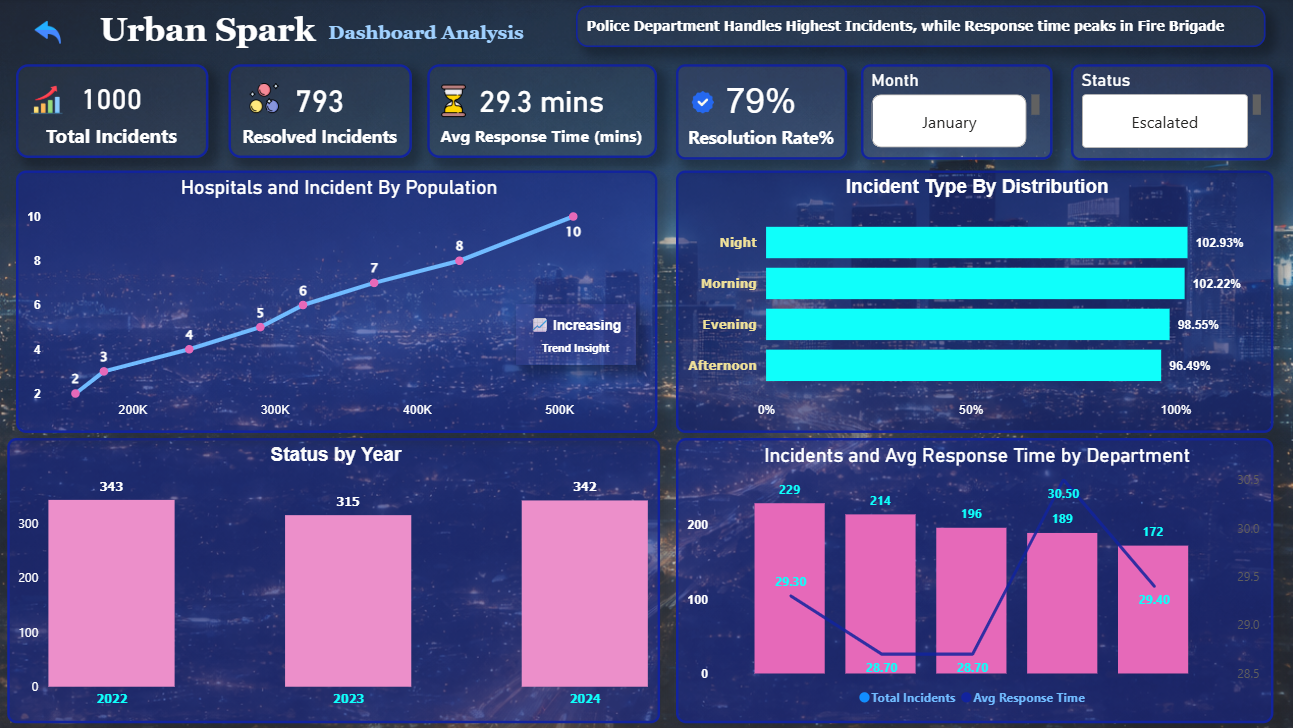

Layout of this report page (visuals, bound fields, positions):
{"tool":"powerbi","page":{"name":"Dashboard","canvas":[1280,720],"ordinal":1},"visuals":[{"type":"card","fields":{"Values":["Incidents_Raw.Total Incidents"]},"box":[19.6,65,189,92],"z":0},{"type":"card","fields":{"Values":["Incidents_Raw.Avg Response Time (mins)"]},"box":[423.3,65,225.8,92],"z":1000},{"type":"card","fields":{"Values":["Incidents_Raw.Resolved Incidents"]},"box":[228.2,65,180.4,92],"z":2000},{"type":"card","fields":{"Values":["Incidents_Raw.Resolution_Rate %"]},"box":[667.5,65,168.1,93.3],"z":3000},{"type":"columnChart","title":"Status by Year","fields":{"Category":["Incidents_Raw.Date.Variation.Date Hierarchy.Year"],"Y":["CountNonNull(Incidents_Raw.Status)"]},"box":[11,431.9,640.5,279.8],"z":4000},{"type":"clusteredBarChart","title":"Incident Type By Distribution","fields":{"Category":["Incidents_Raw.Shift"],"Y":["Divide(Incidents_Raw.Resolution Rate%, ScopedEval(Incidents_Raw.Resolution Rate%, []))"]},"box":[667.5,169.3,586.5,257.7],"z":5000},{"type":"lineChart","title":"Hospitals and Incident By Population","fields":{"Category":["Infrastructure.Population","Infrastructure.Region"],"Y":["Sum(Infrastructure.Hospitals)"]},"box":[19.6,169.3,629.5,257.7],"z":6000},{"type":"textbox","box":[96.9,7.7,224.4,61.2],"z":7000},{"type":"textbox","box":[321.3,17.9,224.4,39.5],"z":8000},{"type":"image","box":[682.2,88.3,23.3,28.2],"z":9000},{"type":"image","box":[239.3,83.4,47.9,29.4],"z":10000},{"type":"image","box":[27,84.7,45.4,30.7],"z":11000},{"type":"image","box":[433.1,78.5,31.9,44.2],"z":12000},{"type":"card","fields":{"Values":["Incidents_Raw.Trend Insight"]},"box":[510.4,300.6,117.8,58.9],"z":13000},{"type":"advancedSlicerVisual","fields":{"Values":["Incidents_Raw.Date.Variation.Date Hierarchy.Month"]},"box":[849.1,65,187.7,93.3],"z":14000},{"type":"advancedSlicerVisual","fields":{"Values":["Incidents_Raw.Status"]},"box":[1055.2,65,198.8,94.5],"z":15000},{"type":"image","box":[19.1,20.4,62.5,25.5],"z":16000},{"type":"lineStackedColumnComboChart","title":"Incidents and Avg Response Time by Department","fields":{"Y":["Incidents_Raw.Total Incidents"],"Y2":["Incidents_Raw.Avg Response Time"],"Category":["Incidents_Raw.Department"]},"box":[667.5,431.9,586.5,279.8],"z":17000},{"type":"textbox","box":[569.5,6.9,676.5,41.2],"z":18000}]}

Visuals, with their boxes in screenshot pixels (x1, y1, x2, y2), scaled from the page's 1280x720 canvas onto the 1293x728 screenshot:
card - Incidents_Raw.Total Incidents: [20,66,211,159]
card - Incidents_Raw.Avg Response Time (mins): [428,66,656,159]
card - Incidents_Raw.Resolved Incidents: [231,66,413,159]
card - Incidents_Raw.Resolution_Rate %: [674,66,844,160]
"Status by Year" columnChart: [11,437,658,720]
"Incident Type By Distribution" clusteredBarChart: [674,171,1267,432]
"Hospitals and Incident By Population" lineChart: [20,171,656,432]
textbox: [98,8,325,70]
textbox: [325,18,551,58]
image: [689,89,713,118]
image: [242,84,290,114]
image: [27,86,73,117]
image: [437,79,470,124]
card - Incidents_Raw.Trend Insight: [516,304,635,363]
advancedSlicerVisual - Incidents_Raw.Date.Variation.Date Hierarchy.Month: [858,66,1047,160]
advancedSlicerVisual - Incidents_Raw.Status: [1066,66,1267,161]
image: [19,21,82,46]
"Incidents and Avg Response Time by Department" lineStackedColumnComboChart: [674,437,1267,720]
textbox: [575,7,1259,49]
